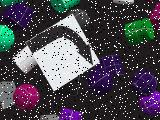Right: (25, 13, 100, 92)
